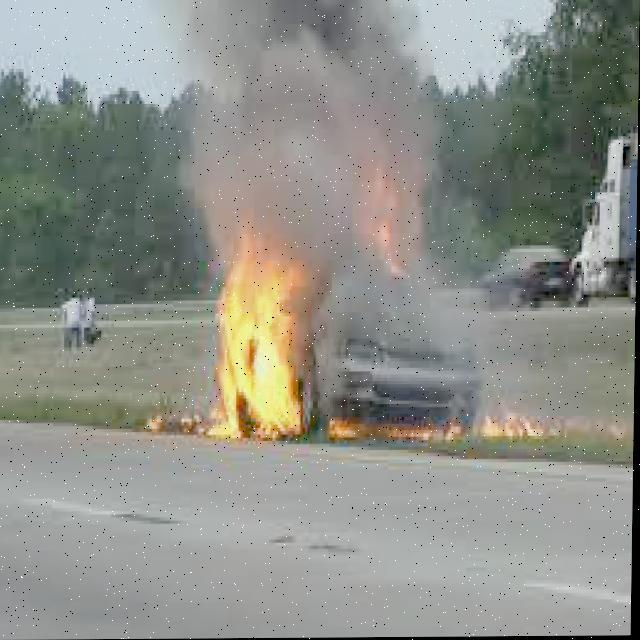Fire: (202, 218, 321, 448), (338, 154, 433, 294)
